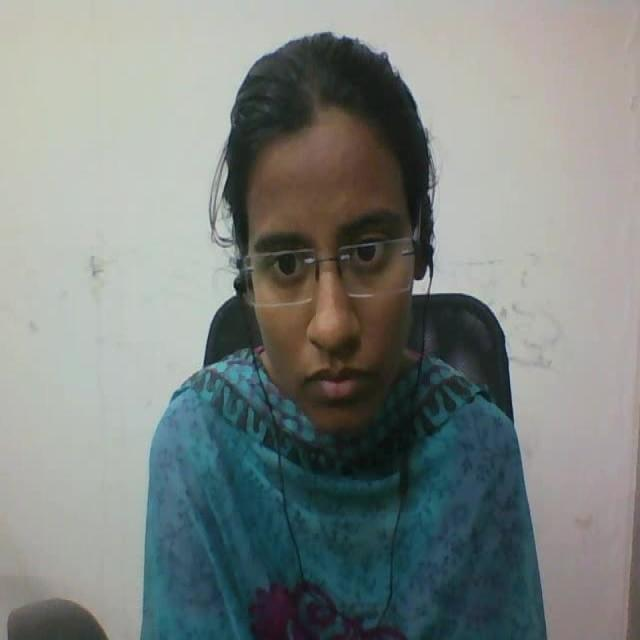Engaged: (207, 10, 476, 463)
